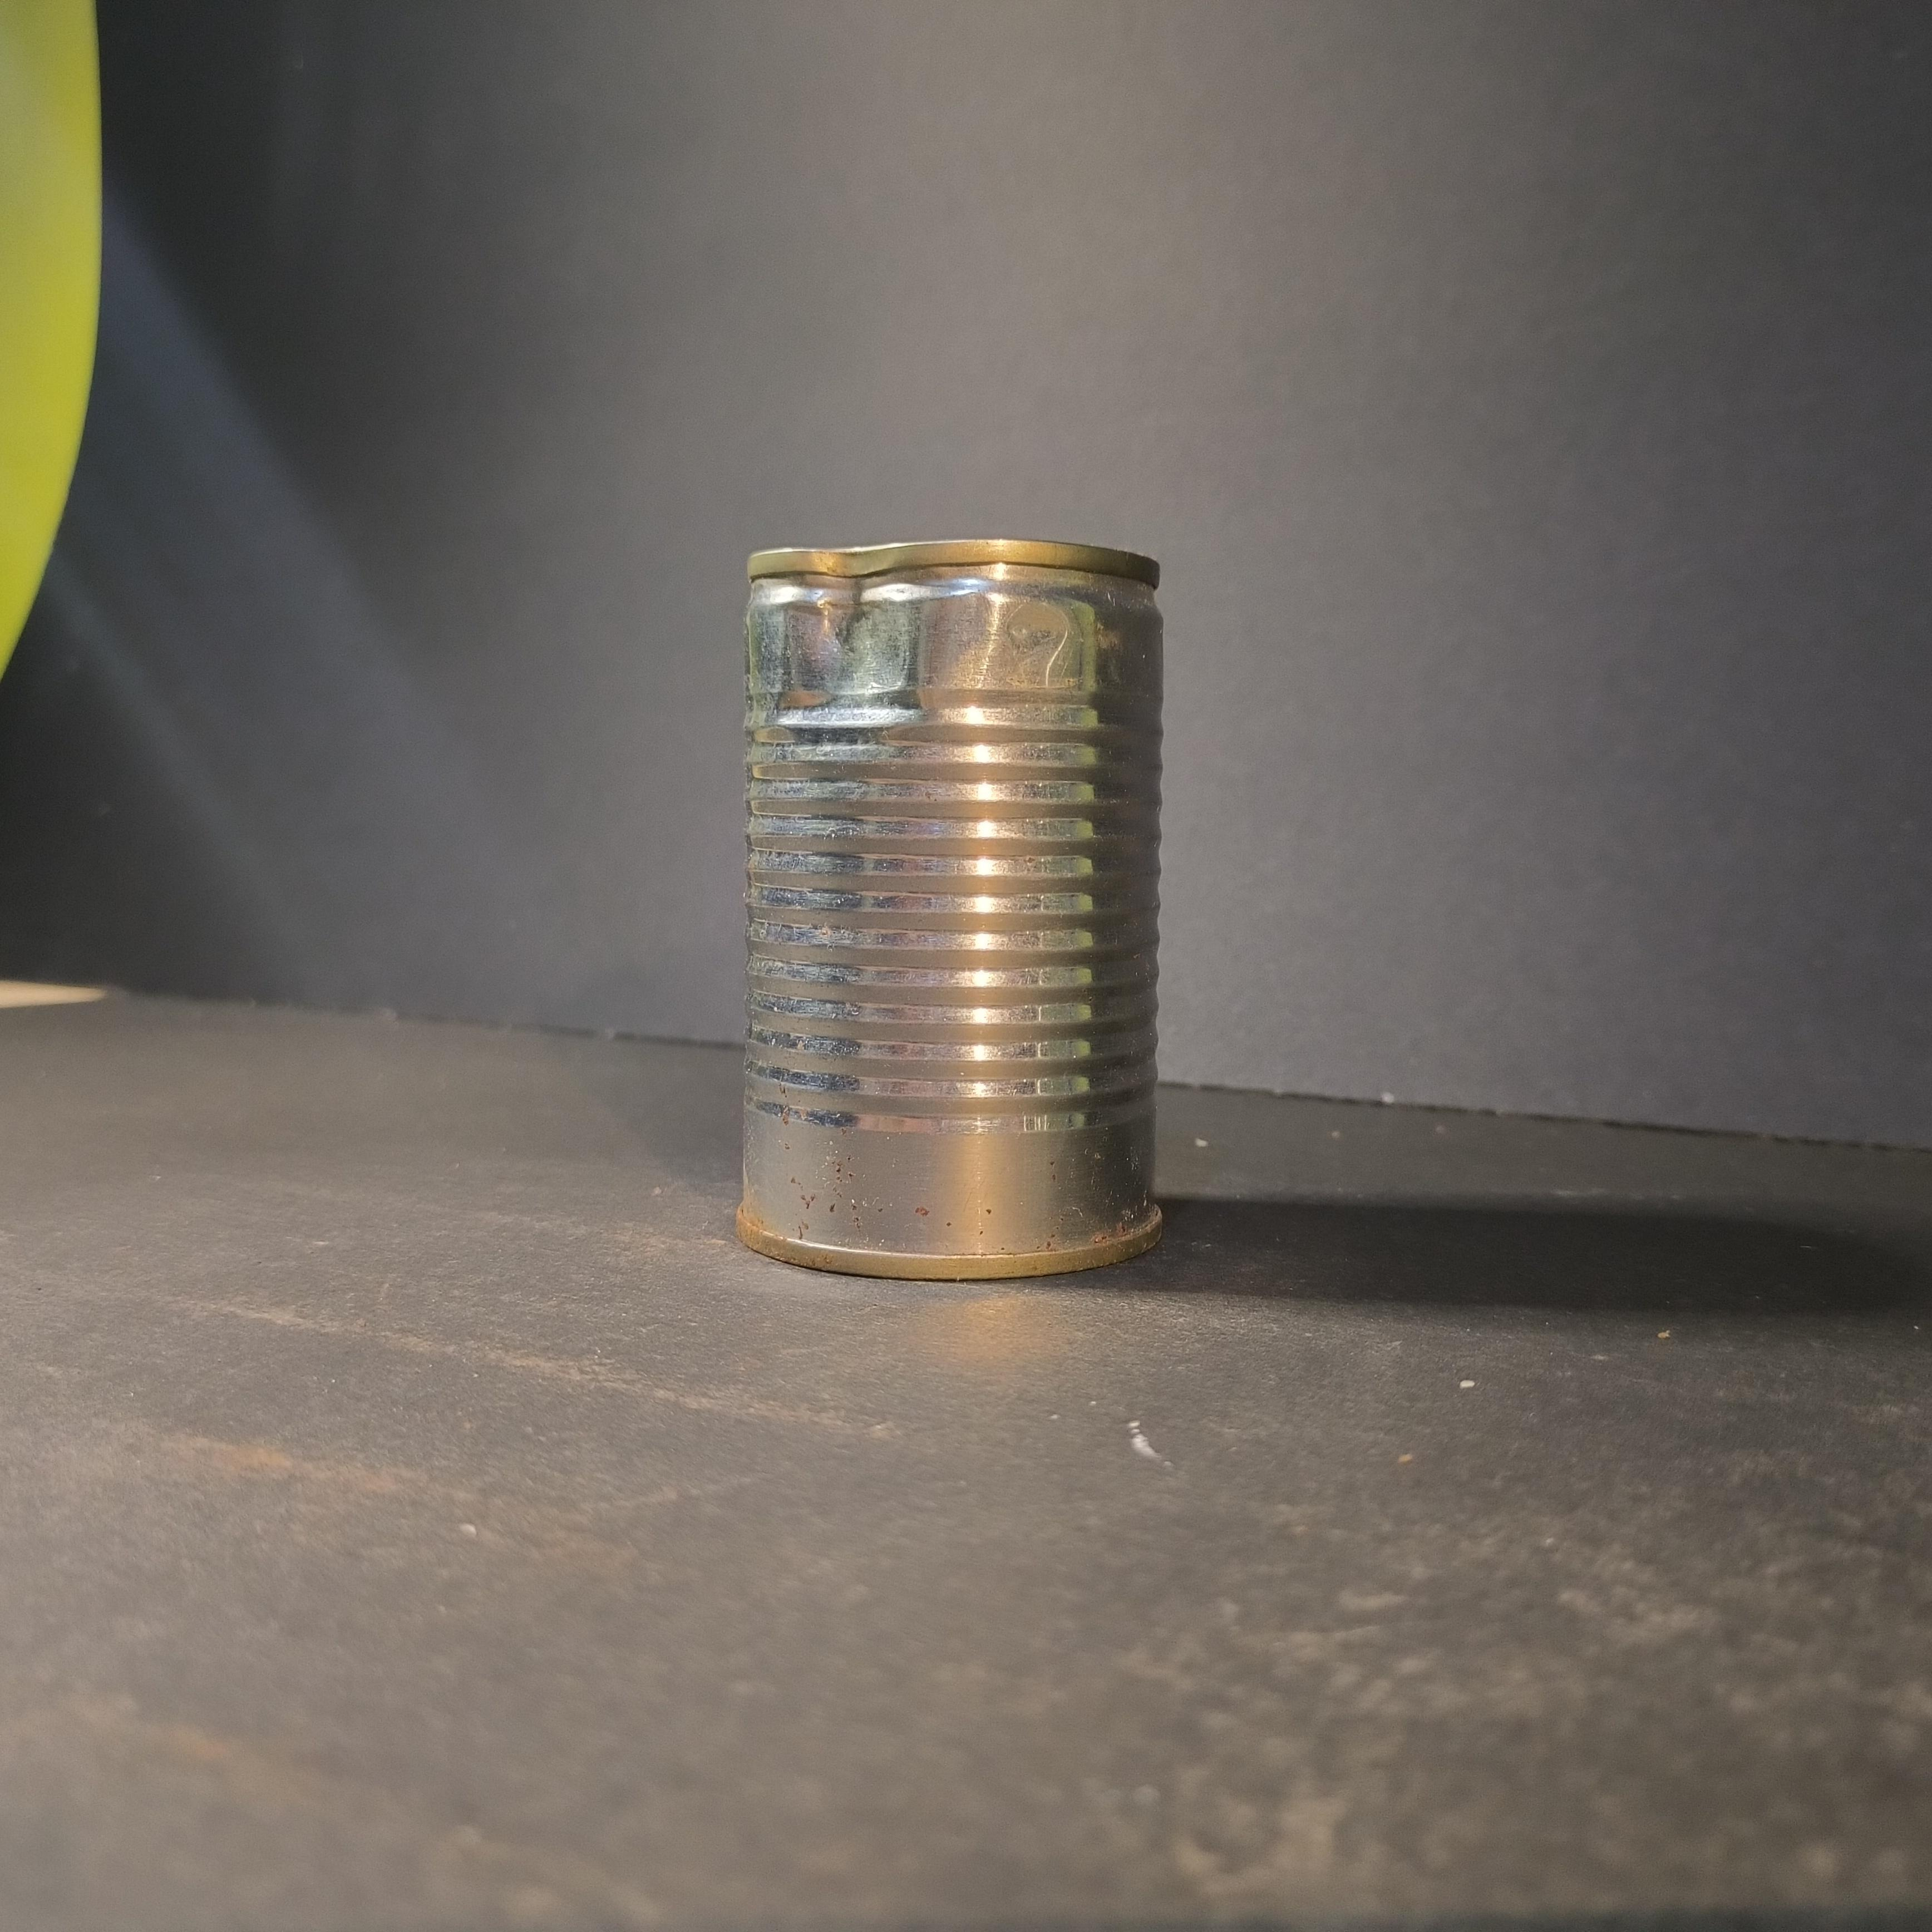Dented: (729, 511, 1171, 1297)
